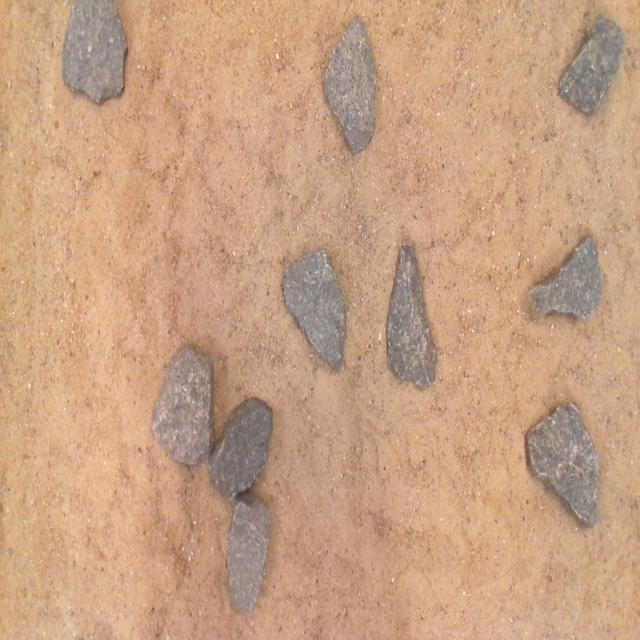rock: (526, 404, 598, 526), (152, 344, 214, 465), (283, 249, 345, 369), (324, 17, 376, 153), (387, 245, 436, 388), (62, 0, 127, 103), (209, 398, 272, 500), (558, 17, 623, 114), (528, 235, 601, 319), (228, 492, 270, 612)
